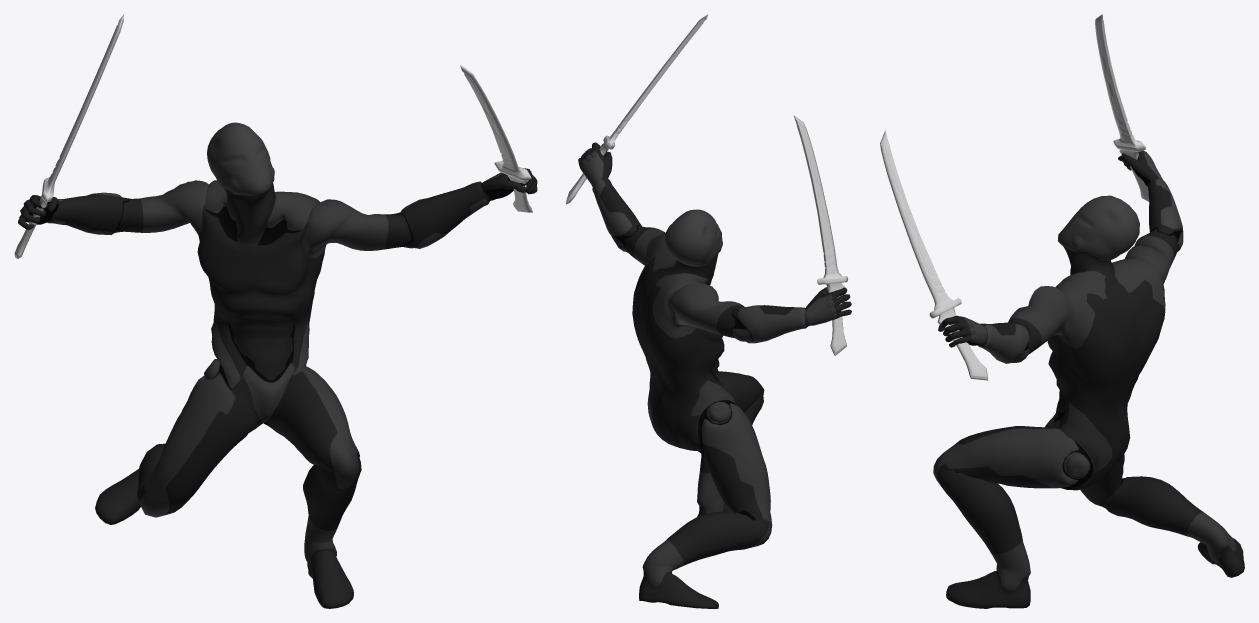
3 renders of one model, left to right at view 1: azimuth 30°, elevation 25°; view 2: azimuth 150°, elevation 25°; view 3: azimuth 270°, elevation 25°, orthographic. The views are drawn at different scales.
Visible parts, largest first — view 1: Cyborg_Ninja_Killer, Sword_l, Sword_l001; view 2: Cyborg_Ninja_Killer, Sword_l001, Sword_l; view 3: Cyborg_Ninja_Killer, Sword_l, Sword_l001.
Part boxes in pixels (x1,y1,x2,y2): Cyborg_Ninja_Killer: (18, 122, 537, 608); Sword_l: (460, 65, 532, 212); Sword_l001: (14, 14, 123, 258); Cyborg_Ninja_Killer: (578, 142, 851, 608); Sword_l001: (793, 115, 847, 355); Sword_l: (566, 14, 708, 204); Cyborg_Ninja_Killer: (933, 150, 1244, 608); Sword_l: (880, 130, 987, 380); Sword_l001: (1095, 14, 1149, 201).
Bounding box in the file's own units: 149 × 190 × 120.
